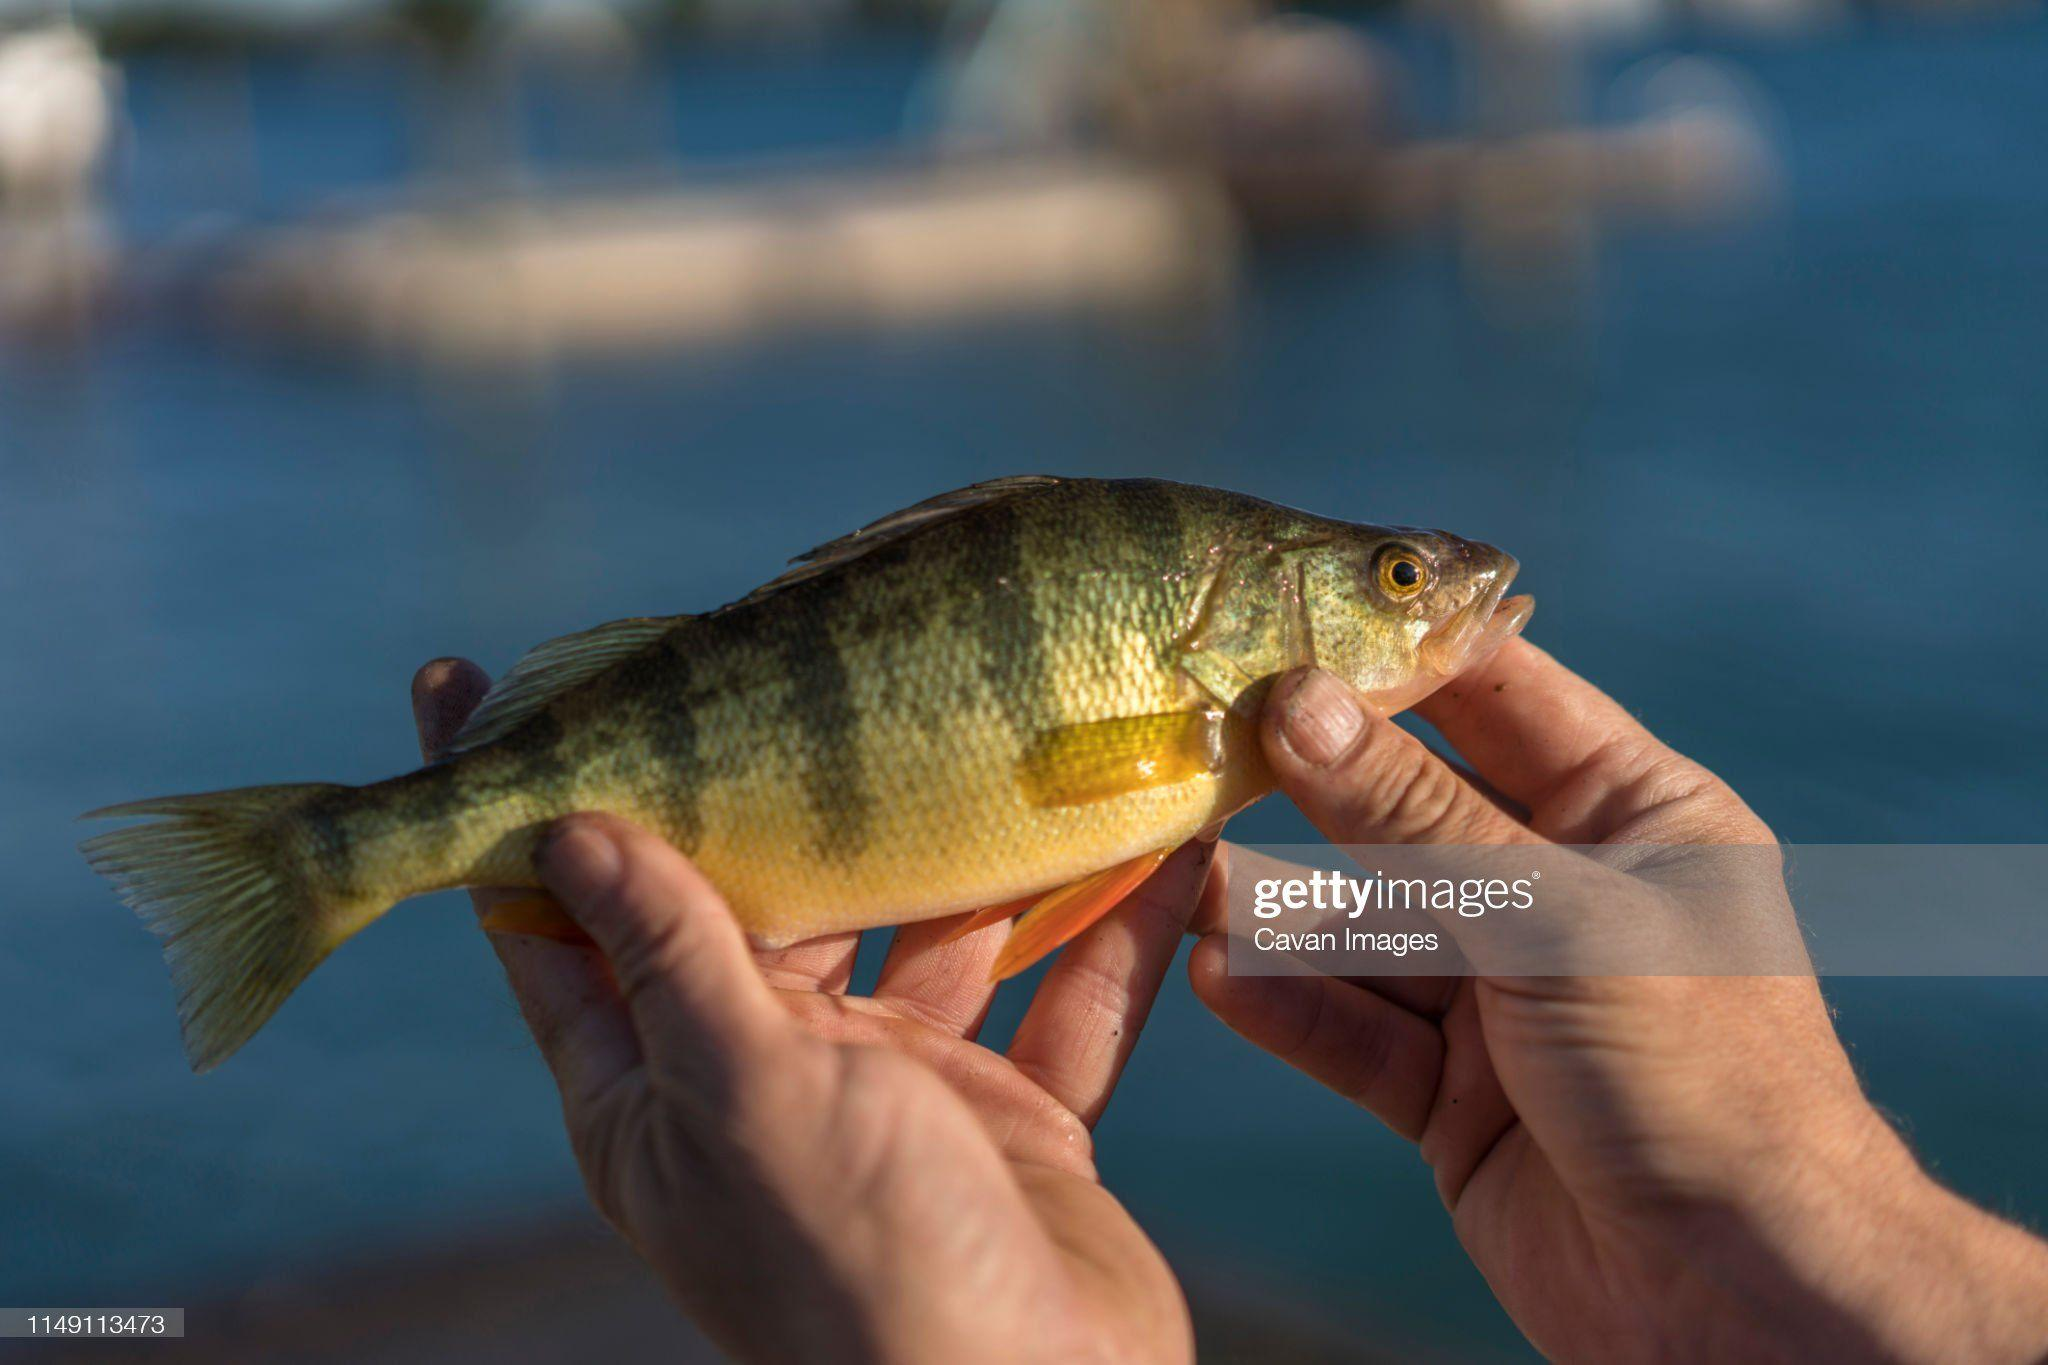Perch: (78, 466, 1541, 1089)
